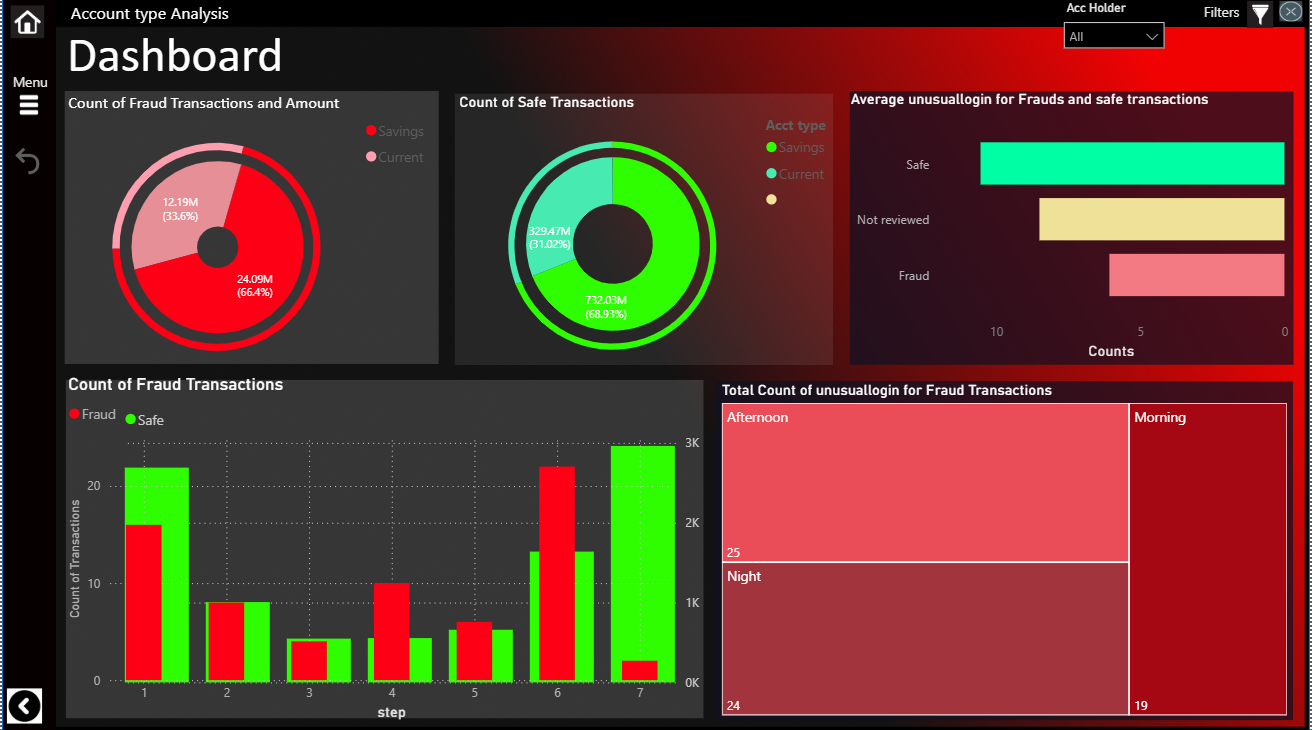

This screenshot's page, from the dashboard's own definition file:
{"tool":"powerbi","page":{"name":"Dashboard","canvas":[1280,720],"ordinal":0},"visuals":[{"type":"shape","box":[0,0,1279.5,719.9],"z":0},{"type":"image","box":[0,1.9,1279.2,718.9],"z":1000},{"type":"cardVisual","fields":{"Data":["Count(Fraud Dataset_NEW.nameOrig)"]},"box":[104.8,192.3,186.6,96.2],"z":2000},{"type":"shape","box":[442.1,94.7,338.8,265.6],"z":3000},{"type":"shape","box":[793.8,93.3,469.4,267],"z":4000},{"type":"shape","box":[43.1,0,1235.9,30.1],"z":5000},{"type":"shape","box":[61.7,93.3,366,267],"z":6000},{"type":"shape","box":[62.1,375.9,624.2,331.6],"z":7000},{"type":"textbox","box":[50.8,0,294.4,37.2],"z":8000},{"type":"donutChart","title":"Status Count","fields":{"Y":["Count(Fraud Dataset_NEW.nameOrig)"],"Category":["Fraud Dataset_NEW.isFraud"]},"box":[62.6,93.1,363.8,267.3],"z":9000},{"type":"shape","box":[698.6,407.8,563.9,301.4],"z":10000},{"type":"lineChart","title":"Total Transaction trends Over time ","fields":{"Category":["Fraud Dataset_NEW.Date of transaction.Variation.Date Hierarchy.Month","Fraud Dataset_NEW.Date of transaction.Variation.Date Hierarchy.Day"],"Series":["Fraud Dataset_NEW.isFraud"],"Y":["Sum(Fraud Dataset_NEW.amount)"]},"box":[62.1,377.7,624.2,331.6],"z":11000},{"type":"textbox","box":[58.9,23,234,68.9],"z":12000},{"type":"columnChart","title":"Average Transections Amount at Risk","fields":{"Category":["Fraud Dataset_NEW.isFraud"],"Y":["Avg(Fraud Dataset_NEW.amount)"]},"box":[436.4,93.3,344.5,271.3],"z":14000},{"type":"shape","box":[0,0,50.1,719.7],"z":15000},{"type":"actionButton","box":[14.2,99.3,23.1,24.8],"z":16000},{"type":"textbox","box":[936.2,92.2,326.3,63.8],"z":17000},{"type":"actionButton","box":[8.9,138.3,35.5,37.2],"z":18000},{"type":"filledMap","fields":{"Category":["Fraud Dataset_NEW.branch"],"Series":["Fraud Dataset_NEW.isFraud"]},"box":[691.5,365.3,578.1,354.6],"z":19000},{"type":"areaChart","fields":{"Category":["Fraud Dataset_NEW.Time of day"],"Series":["Fraud Dataset_NEW.isFraud"],"Y":["CountNonNull(Fraud Dataset_NEW.nameOrig)"]},"box":[750.1,95.8,530.2,264.2],"z":20000},{"type":"actionButton","box":[1028.7,54.1,115,32.1],"z":21000},{"type":"actionButton","box":[1147.1,54.1,115,32.1],"z":22000},{"type":"textbox","box":[507.1,680.9,326.3,28.4],"z":23000},{"type":"textbox","box":[328,393.7,326.3,63.8],"z":24000},{"type":"image","box":[1245.3,0,32.1,30.2],"z":25000},{"type":"slicer","fields":{"Values":["Fraud Dataset_NEW.Time of day"]},"box":[1167.9,147.2,101.9,117],"z":26000},{"type":"slicer","fields":{"Values":["Fraud Dataset_NEW.nameOrig"]},"box":[1028.3,0,118.9,71.7],"z":27000},{"type":"image","box":[1200,0,62.3,35.8],"z":29000},{"type":"actionButton","box":[0,76.2,47.9,23.1],"z":30000},{"type":"actionButton","box":[1166,0,52.8,30.2],"z":31000},{"type":"textbox","box":[556.6,681.1,135.8,37.7],"z":32000},{"type":"image","box":[3.5,0,42.6,47.9],"z":33000},{"type":"image","box":[4.3,661.7,44.5,47.4],"z":34000}]}

Visuals, with their boxes on the page's 1280x720 design canvas (x1, y1, x2, y2). These are canvas units, not pixel positions in the 1313x730 screenshot, which may show the page scaled, cropped or inside an application window:
shape: locate(0, 0, 1280, 720)
image: locate(0, 2, 1279, 721)
cardVisual - Count(Fraud Dataset_NEW.nameOrig): locate(105, 192, 291, 288)
shape: locate(442, 95, 781, 360)
shape: locate(794, 93, 1263, 360)
shape: locate(43, 0, 1279, 30)
shape: locate(62, 93, 428, 360)
shape: locate(62, 376, 686, 708)
textbox: locate(51, 0, 345, 37)
"Status Count" donutChart: locate(63, 93, 426, 360)
shape: locate(699, 408, 1262, 709)
"Total Transaction trends Over time " lineChart: locate(62, 378, 686, 709)
textbox: locate(59, 23, 293, 92)
"Average Transections Amount at Risk" columnChart: locate(436, 93, 781, 365)
shape: locate(0, 0, 50, 720)
actionButton: locate(14, 99, 37, 124)
textbox: locate(936, 92, 1262, 156)
actionButton: locate(9, 138, 44, 176)
filledMap - Fraud Dataset_NEW.branch x Fraud Dataset_NEW.isFraud: locate(692, 365, 1270, 720)
areaChart - Fraud Dataset_NEW.Time of day x Fraud Dataset_NEW.isFraud: locate(750, 96, 1280, 360)
actionButton: locate(1029, 54, 1144, 86)
actionButton: locate(1147, 54, 1262, 86)
textbox: locate(507, 681, 833, 709)
textbox: locate(328, 394, 654, 458)
image: locate(1245, 0, 1277, 30)
slicer - Fraud Dataset_NEW.Time of day: locate(1168, 147, 1270, 264)
slicer - Fraud Dataset_NEW.nameOrig: locate(1028, 0, 1147, 72)
image: locate(1200, 0, 1262, 36)
actionButton: locate(0, 76, 48, 99)
actionButton: locate(1166, 0, 1219, 30)
textbox: locate(557, 681, 692, 719)
image: locate(4, 0, 46, 48)
image: locate(4, 662, 49, 709)
